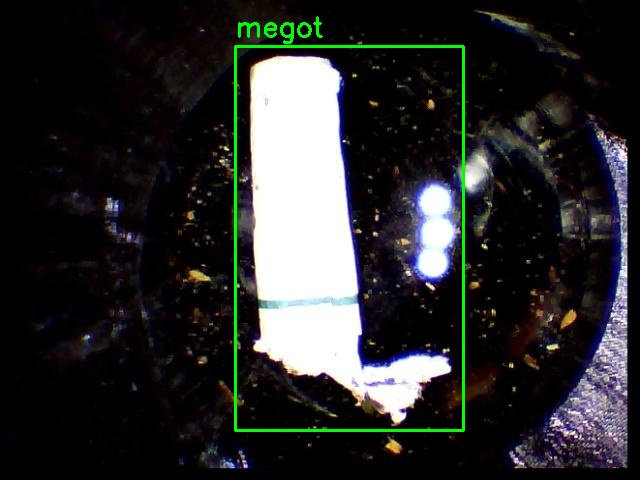megot: (235, 46, 463, 430)
